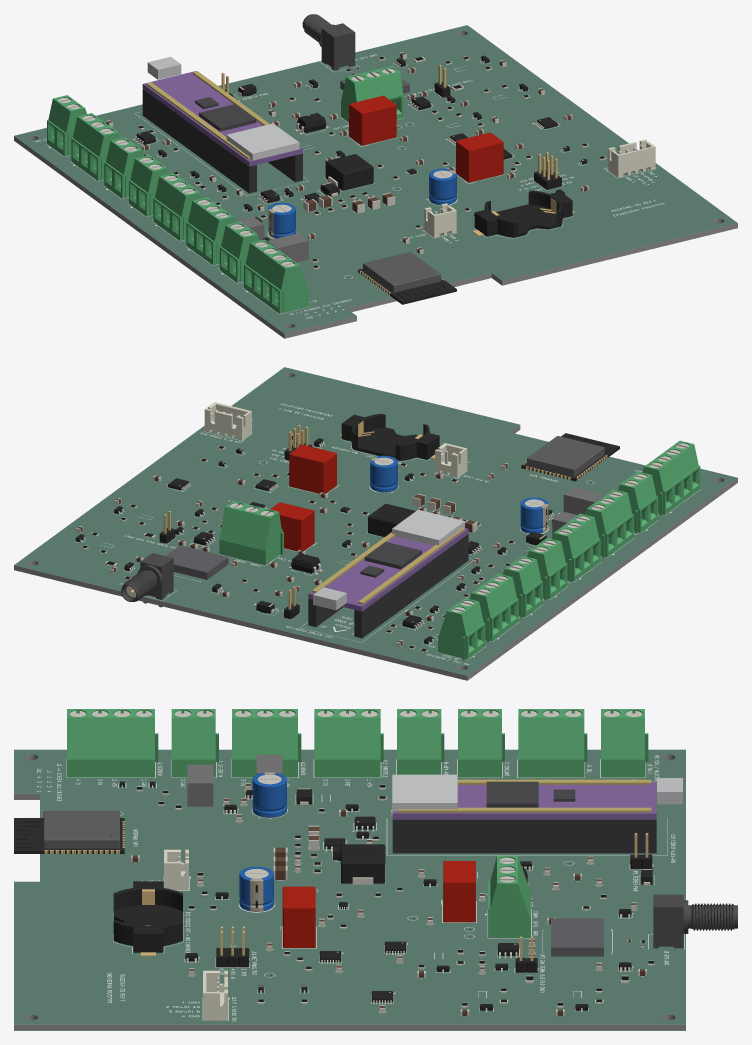
Rendered from Racecar-RevF-3D.glb.
The picture shows the model from 3 angles, top to bottom: view 1: azimuth 30°, elevation 25°; view 2: azimuth 150°, elevation 25°; view 3: azimuth 270°, elevation 25°; orthographic projection. The views are drawn at different scales.
Parts seen in each view (by area): view 1: =>[0:1:1:46], =>[0:1:1:48], =>[0:1:1:2] (×8), J2, U17, BT1, J12, J4, J11, =>[0:1:1:45], J14, U3 (+12 smaller); view 2: =>[0:1:1:46], =>[0:1:1:48], =>[0:1:1:2] (×9), J14, BT1, U17, J2, J3, J11, J4, J12, =>[0:1:1:45] (+11 smaller); view 3: =>[0:1:1:46], =>[0:1:1:48], =>[0:1:1:2] (×9), J2, =>[0:1:1:45], J11, J4, U17, BT1, J12, J14, J3 (+13 smaller).
Boxes of the visible parts, left/top/right/bottom form: =>[0:1:1:46]: left=14, top=25, right=737, bottom=333; =>[0:1:1:48]: left=14, top=26, right=737, bottom=338; =>[0:1:1:2] (×8): left=142, top=56, right=308, bottom=262; J2: left=244, top=239, right=308, bottom=313; U17: left=358, top=252, right=456, bottom=304; BT1: left=472, top=190, right=574, bottom=237; J12: left=186, top=197, right=235, bottom=265; J4: left=71, top=113, right=119, bottom=180; J11: left=153, top=173, right=201, bottom=240; =>[0:1:1:45]: left=35, top=54, right=664, bottom=319; J14: left=341, top=66, right=403, bottom=122; U3: left=349, top=95, right=396, bottom=145; =>[0:1:1:46]: left=14, top=367, right=737, bottom=675; =>[0:1:1:48]: left=14, top=368, right=737, bottom=680; =>[0:1:1:2] (×9): left=166, top=487, right=604, bottom=638; J14: left=219, top=500, right=283, bottom=565; BT1: left=339, top=413, right=439, bottom=460; U17: left=521, top=433, right=619, bottom=481; J2: left=642, top=440, right=700, bottom=515; J3: left=438, top=598, right=485, bottom=659; J11: left=551, top=513, right=600, bottom=581; J4: left=469, top=573, right=518, bottom=641; J12: left=585, top=489, right=633, bottom=557; =>[0:1:1:45]: left=75, top=403, right=700, bottom=665; =>[0:1:1:46]: left=14, top=749, right=685, bottom=1024; =>[0:1:1:48]: left=14, top=750, right=685, bottom=1030; =>[0:1:1:2] (×9): left=187, top=764, right=682, bottom=956; J2: left=67, top=709, right=158, bottom=777; =>[0:1:1:45]: left=37, top=755, right=684, bottom=1021; J11: left=314, top=709, right=383, bottom=777; J4: left=518, top=709, right=587, bottom=777; U17: left=14, top=811, right=124, bottom=853; BT1: left=113, top=881, right=182, bottom=956; J12: left=232, top=709, right=301, bottom=777; J14: left=488, top=855, right=530, bottom=937; J3: left=601, top=709, right=648, bottom=777.
Size of the model in its own units: 0.15 by 0.0177 by 0.167.
